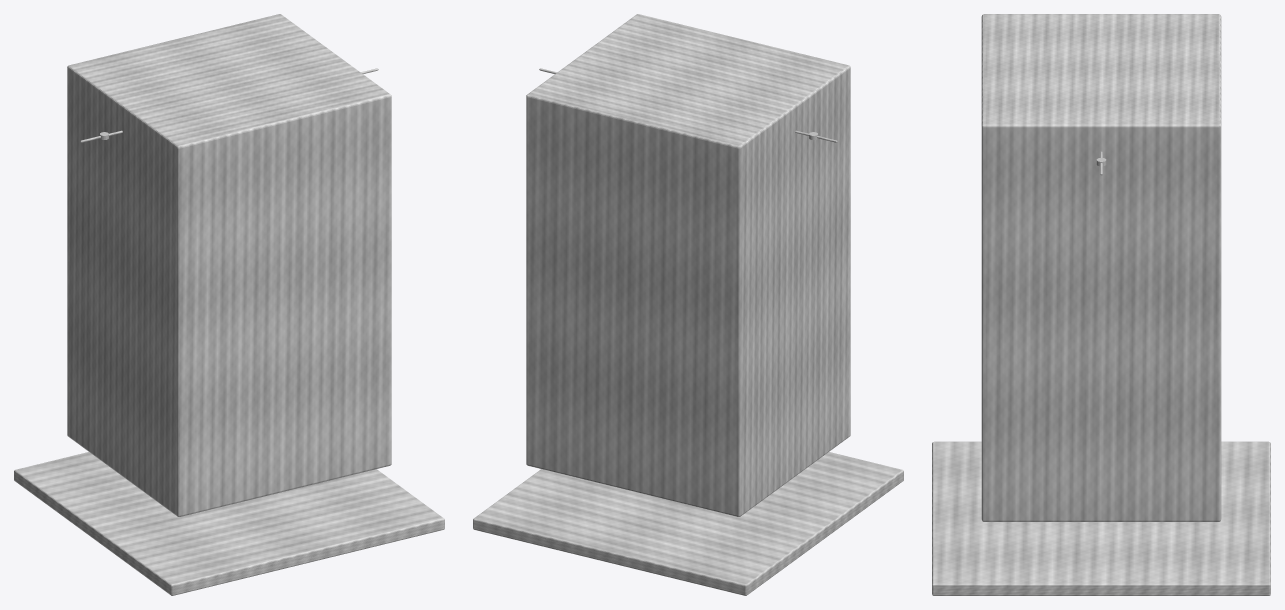
Rendered from power-line_variant_a.glb.
3 views of the same model, side by side, from view 1: azimuth 30°, elevation 25°; view 2: azimuth 150°, elevation 25°; view 3: azimuth 270°, elevation 25° (orthographic). The views are drawn at different scales.
Parts seen in each view (by area): view 1: Equipment body, Foundation; view 2: Equipment body, Foundation; view 3: Equipment body, Foundation.
Boxes of the visible parts, box(x1,y1,x2,y2) form: Equipment body: box(67, 14, 391, 516); Foundation: box(14, 452, 444, 595); Equipment body: box(526, 14, 850, 516); Foundation: box(473, 452, 903, 595); Equipment body: box(981, 14, 1221, 521); Foundation: box(932, 441, 1270, 595).
Size of what is drawn, in the model's own units: 12 by 16.39 by 11.04.
4 materials, 4 textured.
